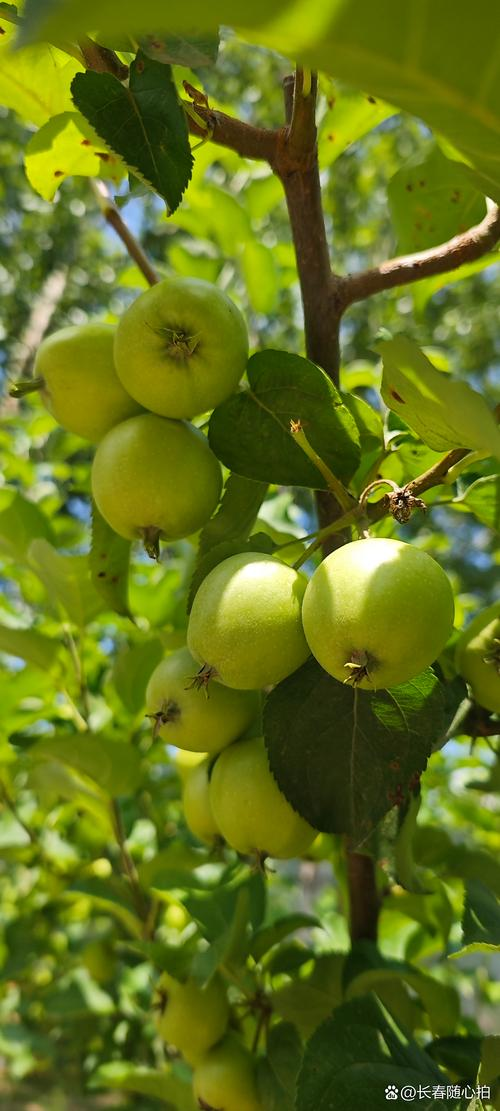unripe: (306, 538, 462, 694), (74, 405, 241, 547), (181, 550, 332, 697), (193, 731, 337, 870), (111, 281, 252, 422), (23, 315, 142, 445)
